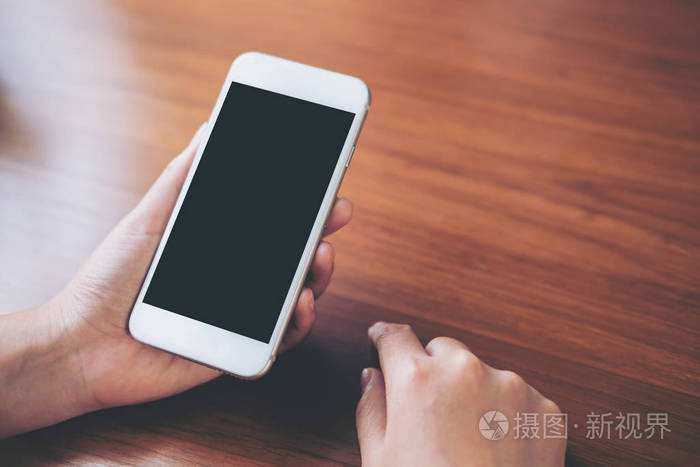phone: (69, 45, 373, 413)
